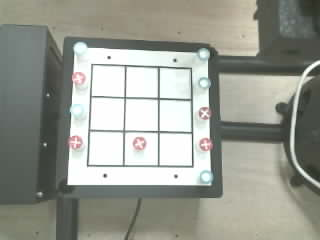blue circle: (73, 42, 87, 55), (197, 48, 210, 61), (70, 104, 83, 117), (200, 170, 213, 183), (198, 77, 211, 88)
board: (67, 47, 212, 185)
cells: (89, 132, 122, 165), (125, 133, 157, 165), (159, 134, 192, 165), (90, 98, 123, 129), (125, 99, 157, 130), (92, 65, 124, 96), (160, 100, 191, 131), (126, 67, 157, 97), (160, 68, 190, 98)
grid: (87, 64, 193, 167)
red cross: (68, 136, 83, 150), (133, 137, 147, 151), (72, 72, 85, 85), (198, 107, 211, 119), (199, 138, 212, 150)
